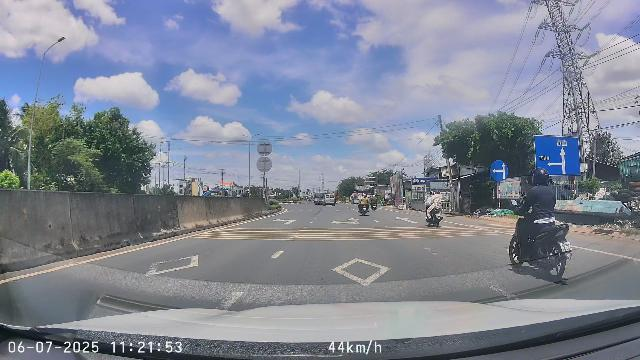301h-cac-xe-chi-duoc-di-thang-va-re-trai: (489, 160, 509, 182)
